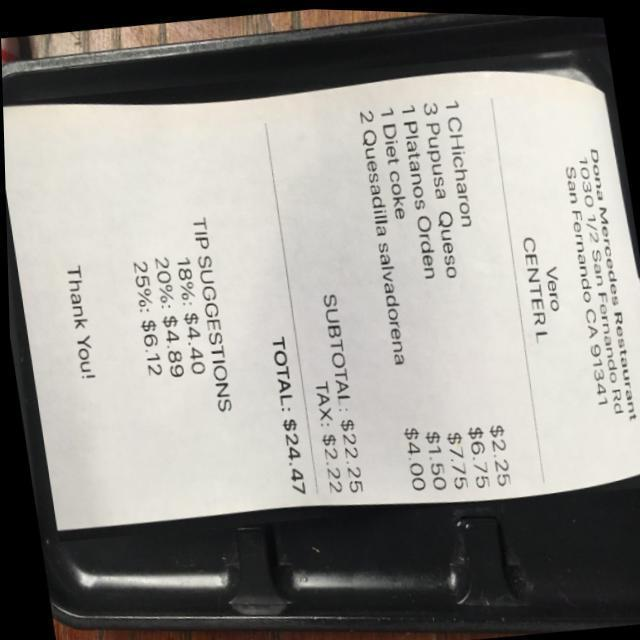Paper: (1, 57, 640, 534)
